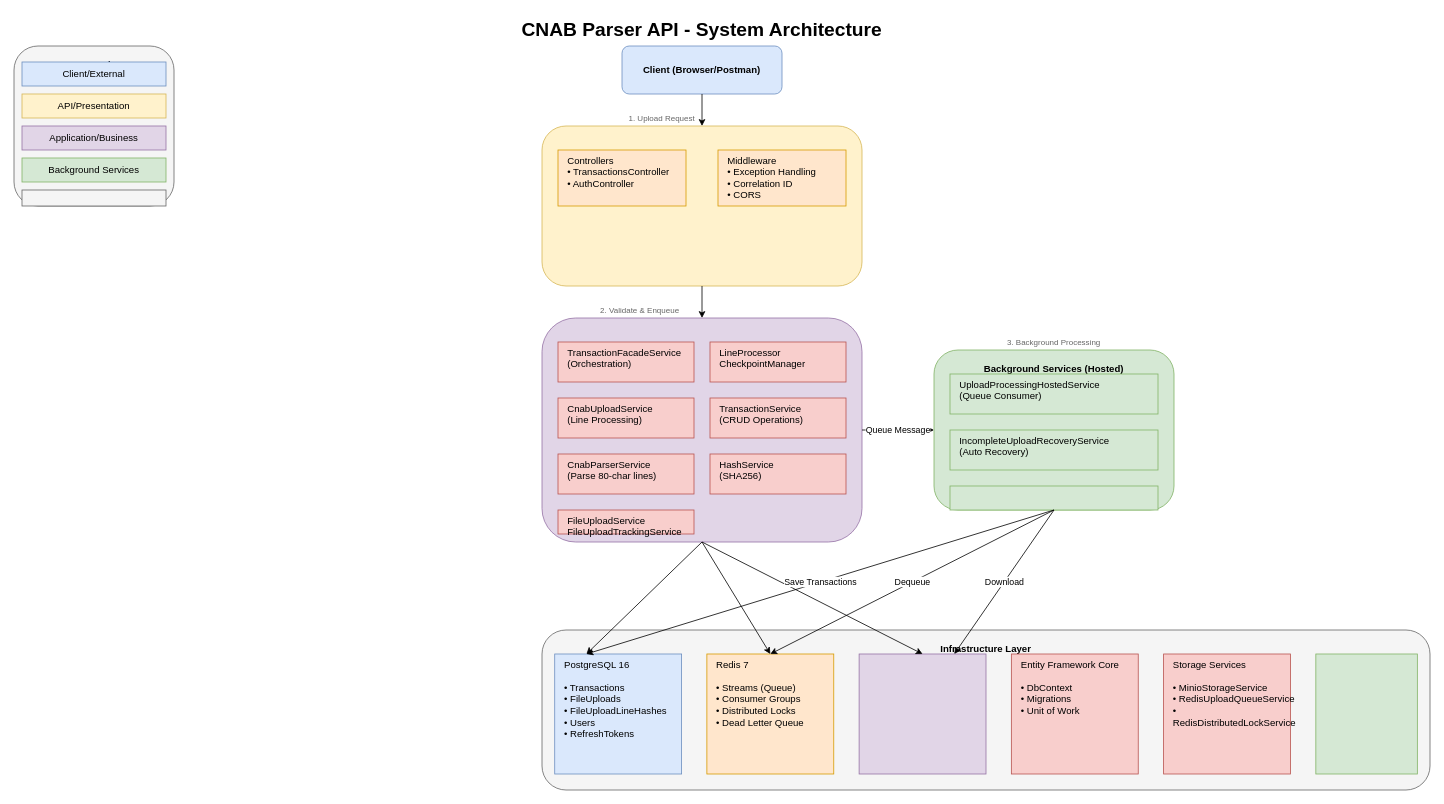
Some shapes in this 1444 by 804 pixel diagram are drawn without their labels. Here are the shapes that lost their labels. From the top down, the box of each, then its label:
(21, 189, 166, 206): Infrastructure
(541, 125, 862, 286): API Layer (ASP.NET Core)
(541, 317, 862, 542): Application Layer
(949, 485, 1158, 510): MinioInitializationService (Bucket Setup)
(858, 653, 986, 774): MinIO • Object Storage • File Persistence • Audit Trail
(1315, 653, 1417, 774): Serilog • Structured Logging • Correlation ID • Application Insights
